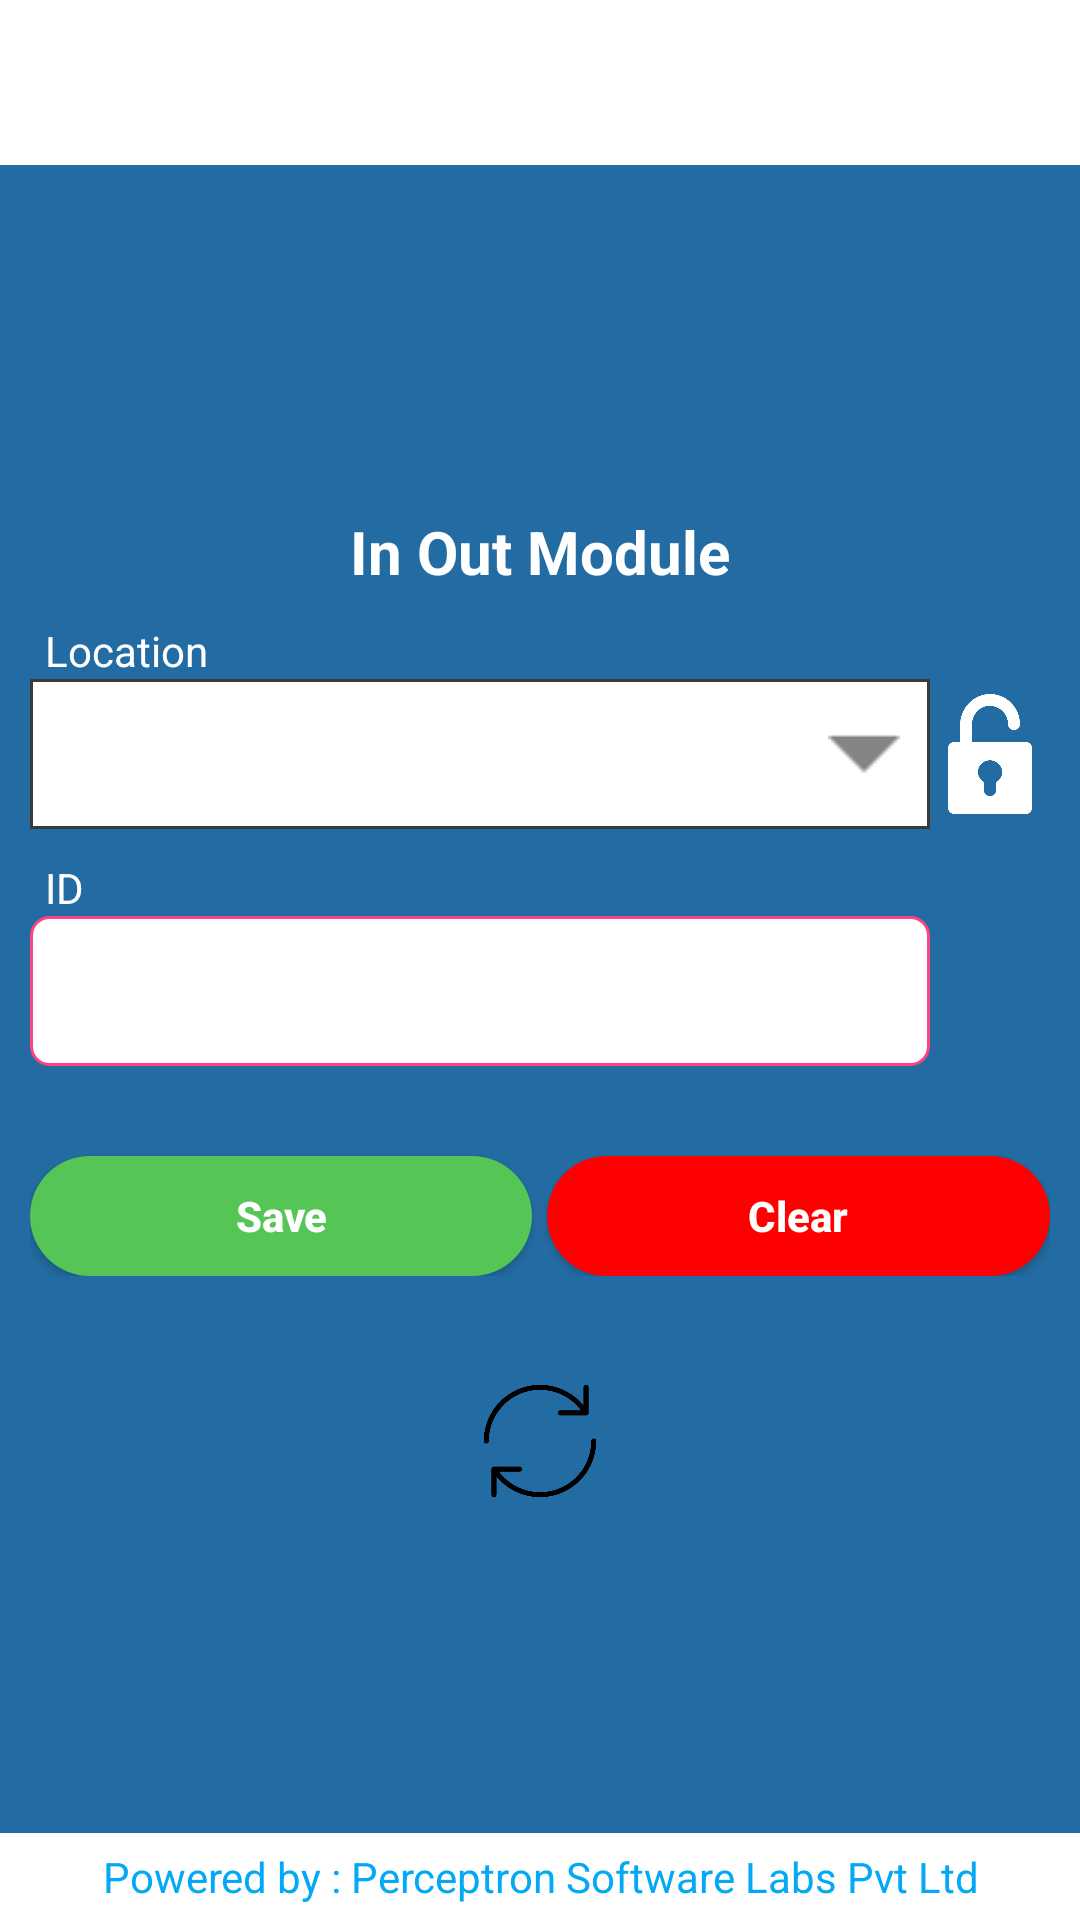

Named icons in this screenshot (1080x1920) and their bounding boxes, {"left": x1, "top": y1, "right": x2, "bottom": y2}:
sync: {"left": 484, "top": 1385, "right": 596, "bottom": 1497}
unlocked: {"left": 948, "top": 694, "right": 1032, "bottom": 814}
